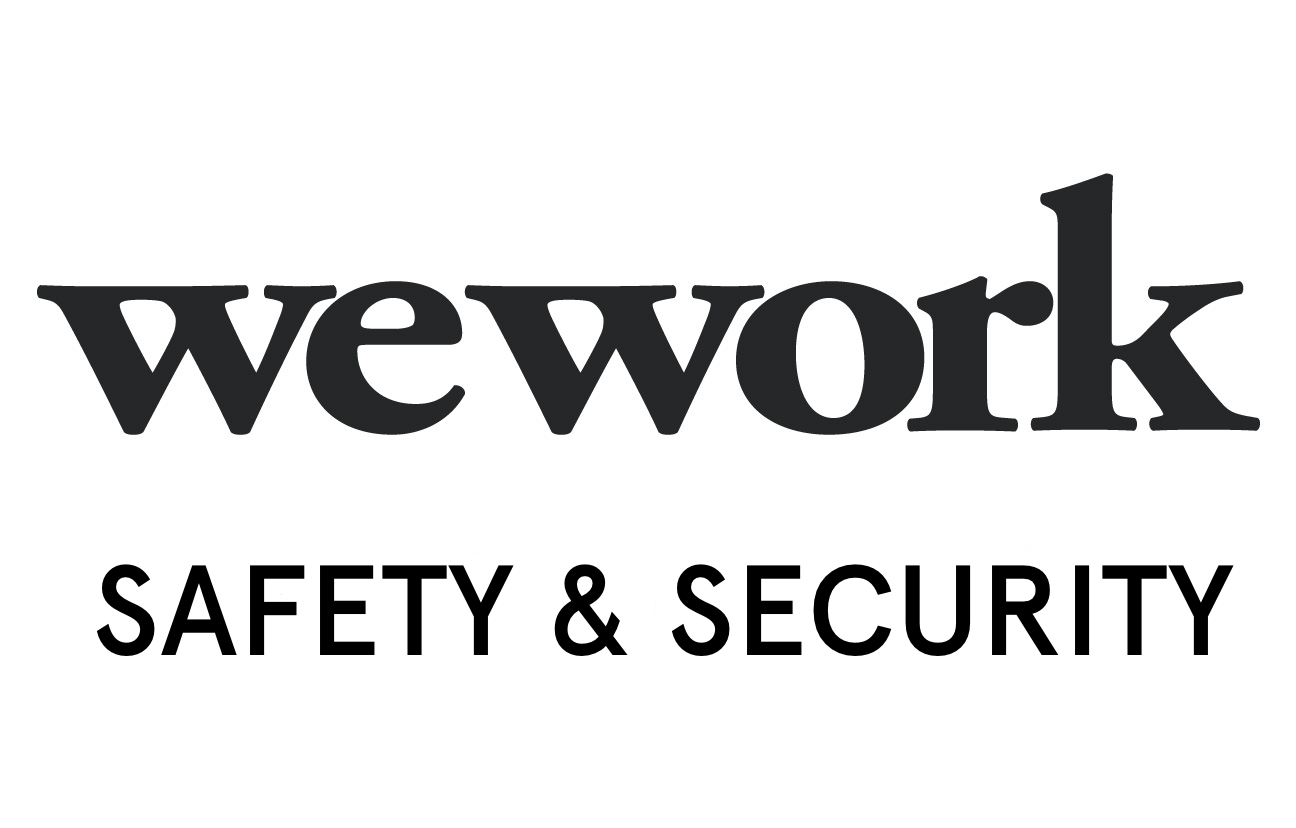wework: (30, 166, 1269, 443)
